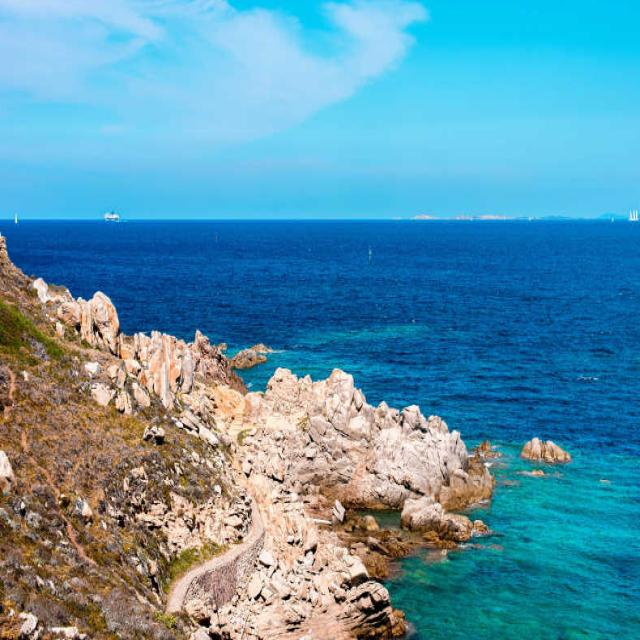reef: (228, 397, 568, 634)
